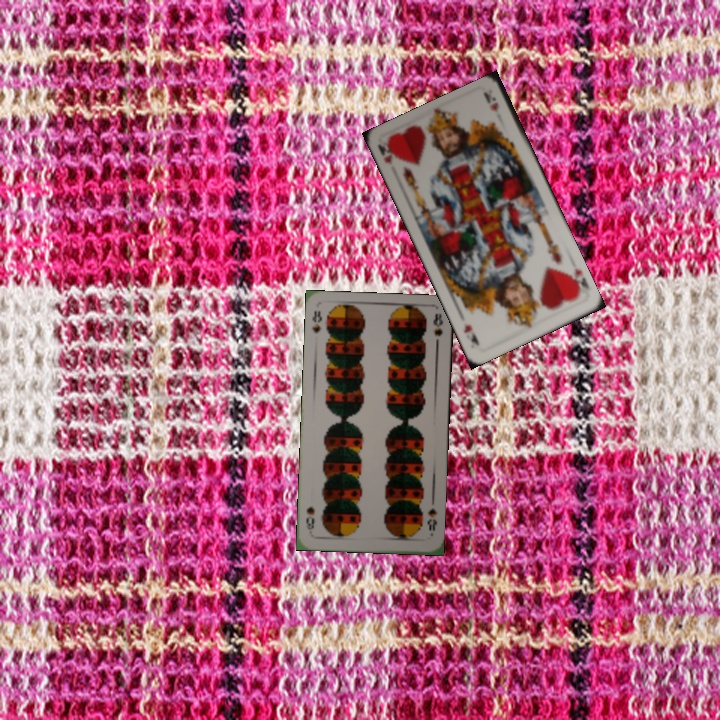HK: (563, 264, 592, 299), (374, 137, 399, 168)
S8: (423, 504, 440, 533), (308, 306, 324, 336)
